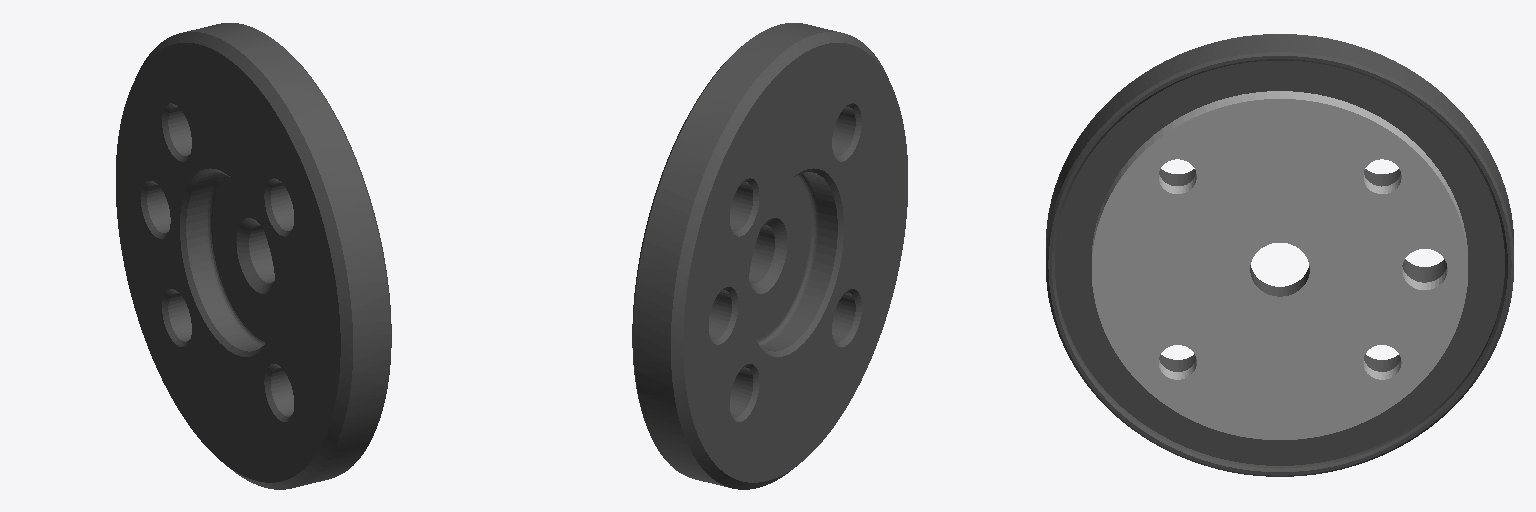
3 renders of one model, left to right at view 1: azimuth 30°, elevation 25°; view 2: azimuth 150°, elevation 25°; view 3: azimuth 270°, elevation 25°, orthographic.
Visible parts, largest first — view 1: MeshBody1; view 2: MeshBody1; view 3: MeshBody1.
Boxes of the visible parts, x1,y1,x2,y2 form: MeshBody1: [116, 23, 391, 489]; MeshBody1: [632, 23, 907, 489]; MeshBody1: [1046, 34, 1513, 476].
Size of the model in its own units: 7 by 51 by 50.99.